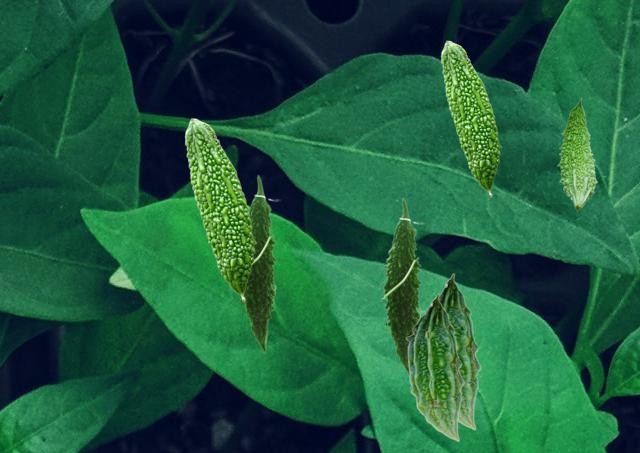ampalaya: (184, 117, 257, 302), (440, 40, 502, 198), (424, 273, 482, 430), (405, 293, 465, 442), (379, 197, 427, 377), (239, 174, 282, 354), (557, 97, 598, 210)
